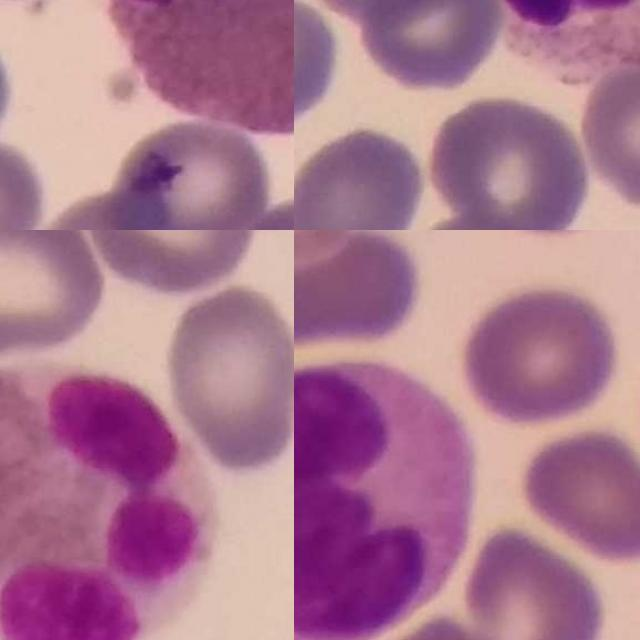Eosinophil: (0, 363, 211, 640), (106, 0, 294, 134)
Monocyte: (294, 353, 474, 640)
